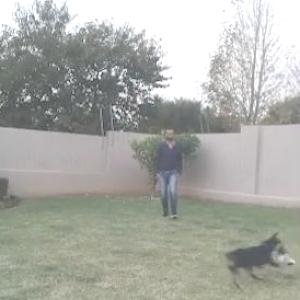follow: (153, 122, 183, 225)
